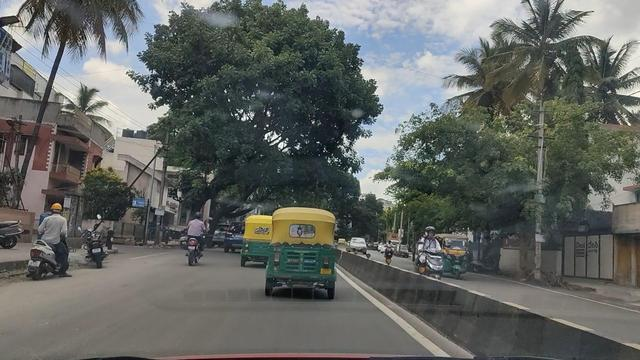LMV: (269, 213, 338, 299), (22, 199, 75, 283), (179, 212, 212, 269), (241, 214, 269, 270)
RoadDamages: (23, 296, 105, 360)
